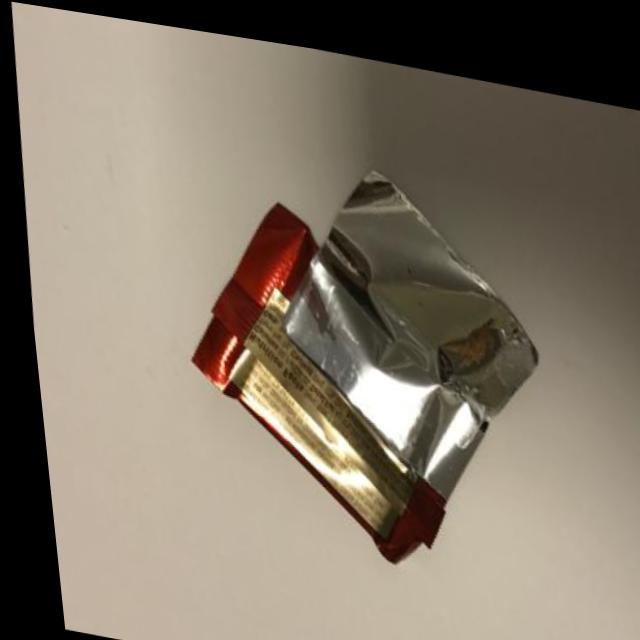trash: (133, 87, 576, 622)
